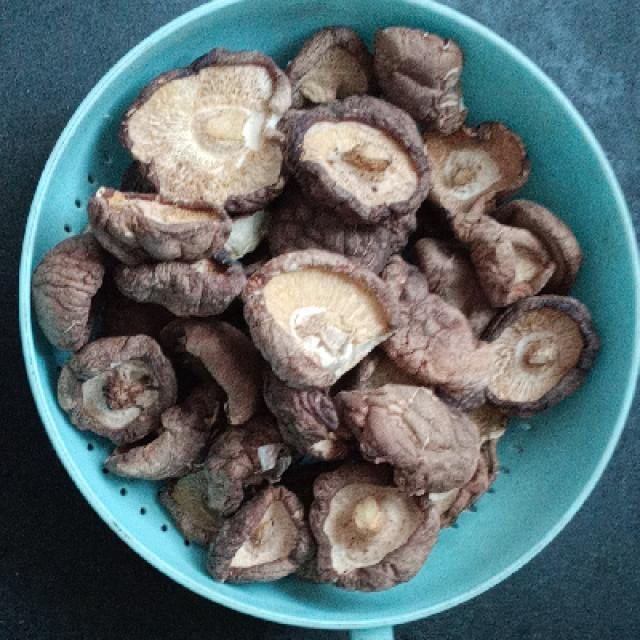Lentinus edodes: (125, 48, 293, 211), (253, 248, 401, 383), (95, 189, 240, 314), (279, 101, 434, 216), (312, 467, 438, 591), (332, 389, 485, 486), (478, 297, 602, 411), (446, 201, 581, 296), (54, 337, 178, 437), (423, 119, 528, 226), (203, 491, 313, 584), (381, 27, 470, 127), (285, 30, 389, 110)
